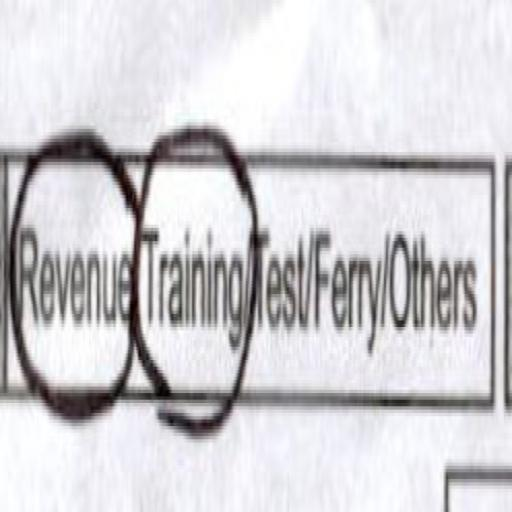check: (11, 51, 139, 447), (141, 88, 248, 422)
